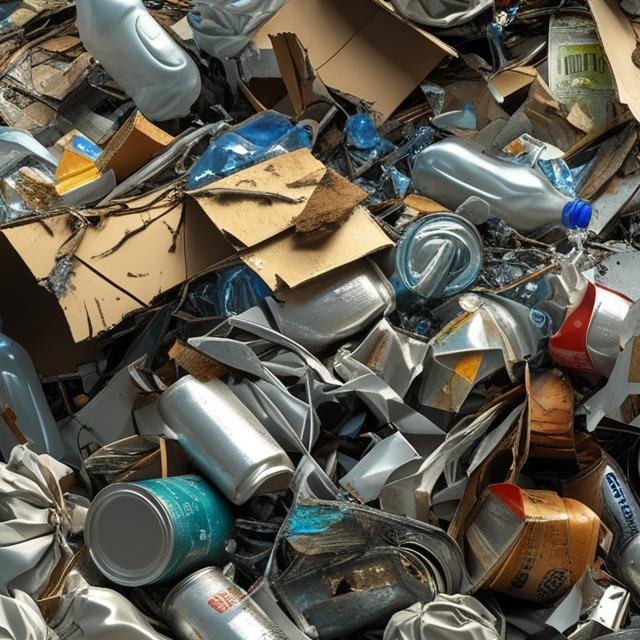metal: (86, 478, 245, 580)
plastic: (45, 0, 217, 122), (0, 308, 83, 500)
